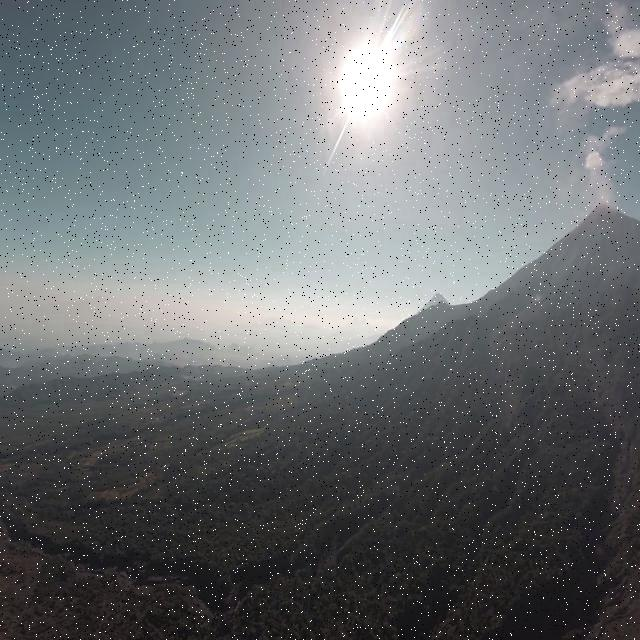Plume: (573, 117, 626, 215), (558, 64, 639, 112), (604, 5, 640, 65)
Summit: (578, 194, 624, 237)
